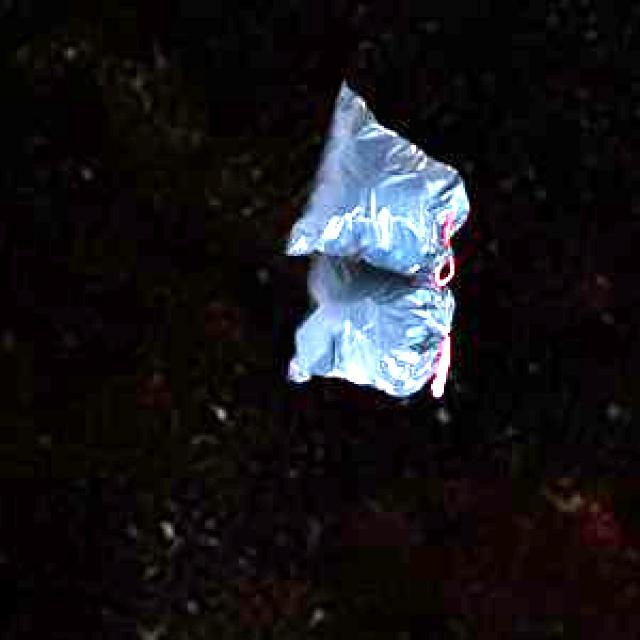Garbage_Bag: (282, 80, 464, 394)
